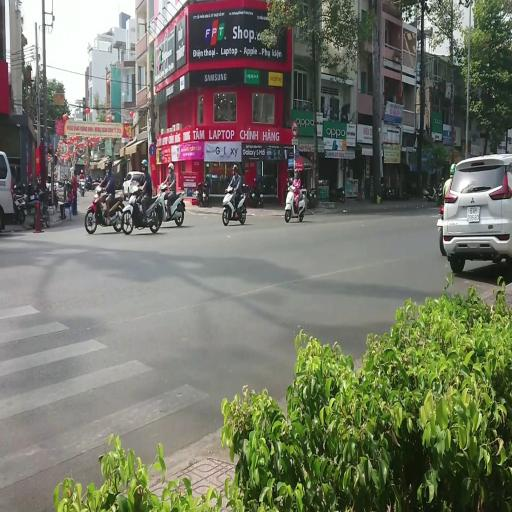bikes: (121, 185, 163, 235), (84, 185, 125, 234), (12, 180, 50, 228), (156, 183, 186, 226), (222, 184, 247, 226), (284, 180, 306, 222), (30, 184, 50, 228), (122, 170, 145, 200), (12, 182, 28, 224), (244, 178, 263, 206), (422, 178, 444, 202), (55, 176, 71, 200), (196, 181, 209, 206), (330, 186, 345, 202), (422, 186, 437, 201), (305, 186, 315, 208), (92, 176, 102, 190), (78, 179, 86, 196)
helmet: (129, 182, 138, 194), (450, 163, 456, 176), (36, 173, 42, 184), (104, 156, 112, 164), (141, 159, 148, 168), (95, 186, 102, 194), (160, 183, 167, 190), (168, 162, 174, 170), (232, 164, 238, 172), (105, 162, 111, 170), (288, 177, 293, 185), (294, 171, 299, 178), (295, 149, 300, 156), (206, 174, 210, 179), (80, 169, 83, 174), (441, 177, 444, 181), (64, 174, 67, 178)
